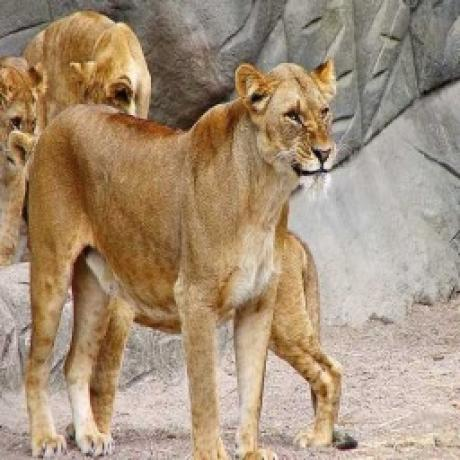Lion: (20, 57, 339, 460), (38, 10, 160, 133), (0, 45, 49, 136)
